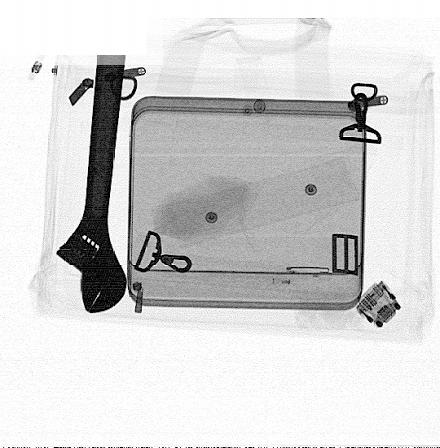Wrench: (55, 55, 127, 314)
